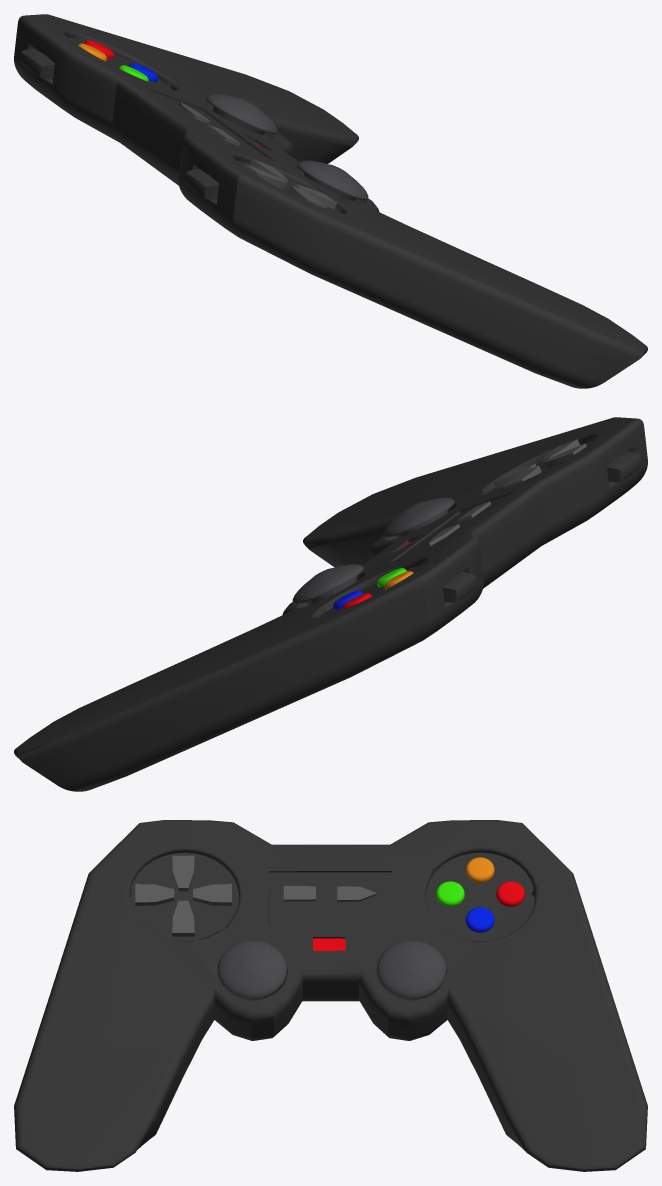
File: Controller.glb
3 views of the same model, one above another, from view 1: azimuth 30°, elevation 25°; view 2: azimuth 150°, elevation 25°; view 3: azimuth 270°, elevation 25° (orthographic). The views are drawn at different scales.
Parts seen in each view (by area): view 1: Plane; view 2: Plane; view 3: Plane.
Boxes of the visible parts, x1,y1,x2,y2 form: Plane: (14,14,647,388); Plane: (14,417,647,791); Plane: (14,820,647,1171).
Size of the model in its own units: 0.4142 by 0.2592 by 0.6894.
